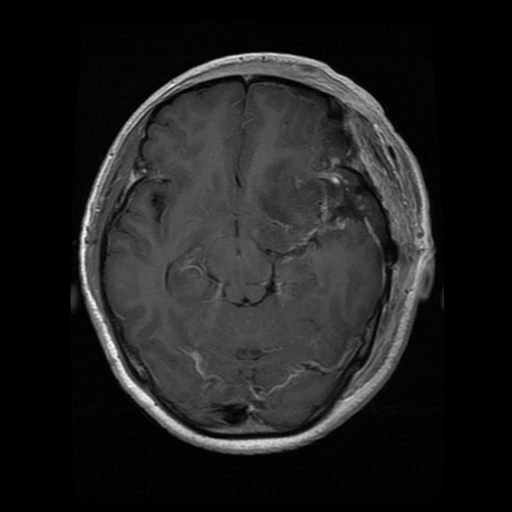glioma: (249, 154, 383, 254)
